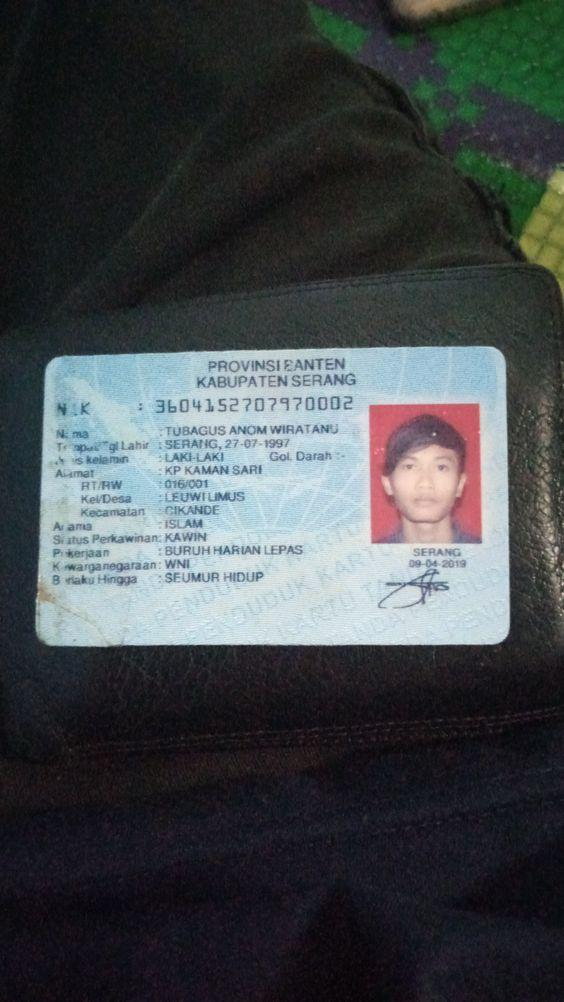ID-card: (26, 351, 512, 636)
